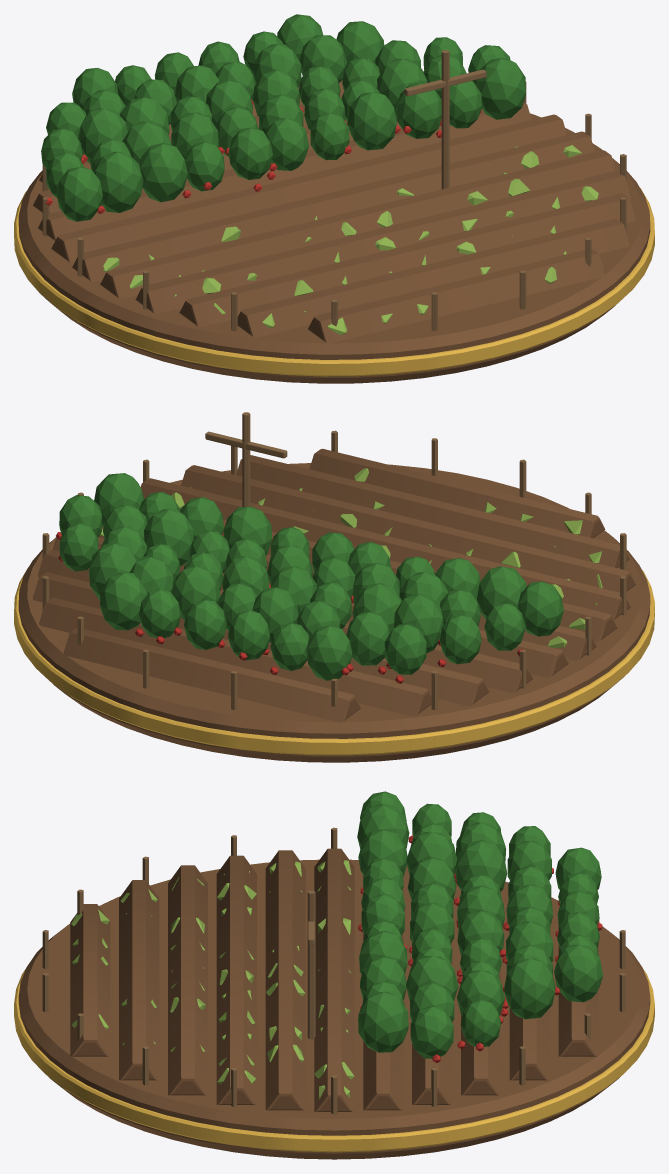
The model's file is cuenca_cultivo.glb.
3 renders of one model, top to bottom at view 1: azimuth 30°, elevation 25°; view 2: azimuth 150°, elevation 25°; view 3: azimuth 270°, elevation 25°, orthographic.
Visible parts, largest first — view 1: geo_base, geo_detail; view 2: geo_base, geo_detail; view 3: geo_base, geo_detail.
Part boxes in pixels (bbox=[...]): geo_base: bbox=[14, 80, 654, 383]; geo_detail: bbox=[41, 14, 626, 334]; geo_base: bbox=[14, 448, 654, 762]; geo_detail: bbox=[42, 412, 626, 709]; geo_base: bbox=[14, 848, 654, 1159]; geo_detail: bbox=[42, 791, 625, 1114].
Size of the model in its own units: 0.1116 by 0.036 by 0.1116.
